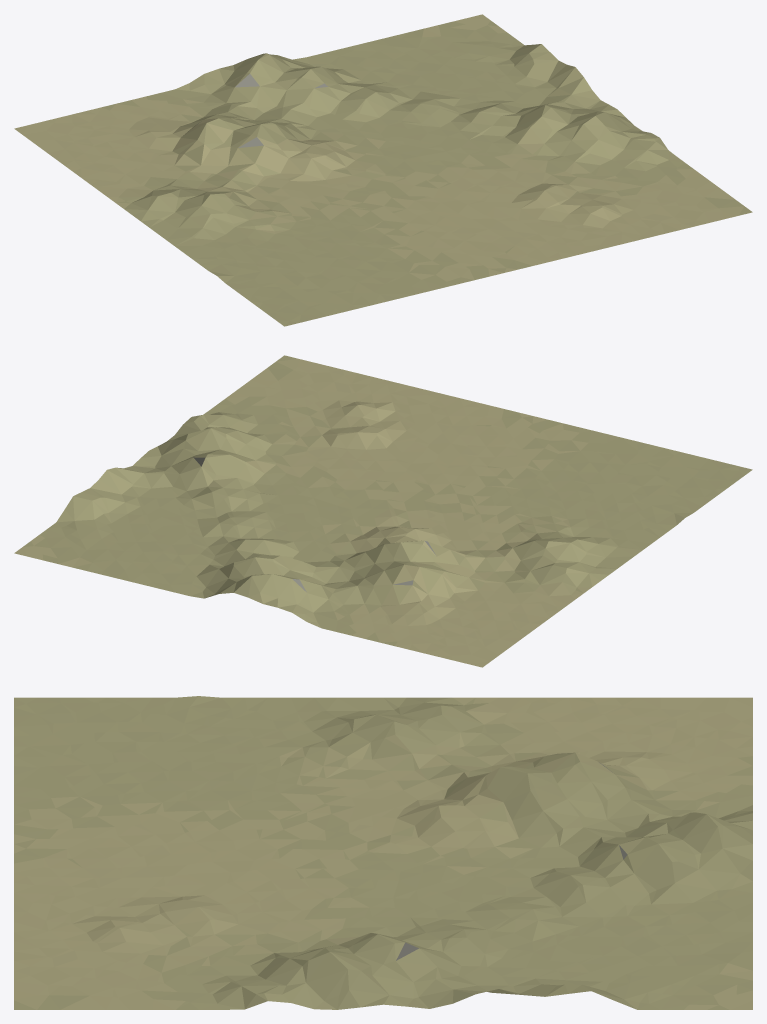
Rendered from Ground_-1_-7.glb.
3 views of the same model, one above another, from view 1: azimuth 30°, elevation 25°; view 2: azimuth 150°, elevation 25°; view 3: azimuth 270°, elevation 25° (orthographic). The views are drawn at different scales.
Parts seen in each view (by area): view 1: Ground_-1_-7; view 2: Ground_-1_-7; view 3: Ground_-1_-7.
Boxes of the visible parts, x1=… form: Ground_-1_-7: x1=14, y1=14, x2=752, y2=326; Ground_-1_-7: x1=14, y1=355, x2=752, y2=667; Ground_-1_-7: x1=14, y1=696, x2=752, y2=1009.
Size of the model in its own units: 768 by 40.35 by 768.
